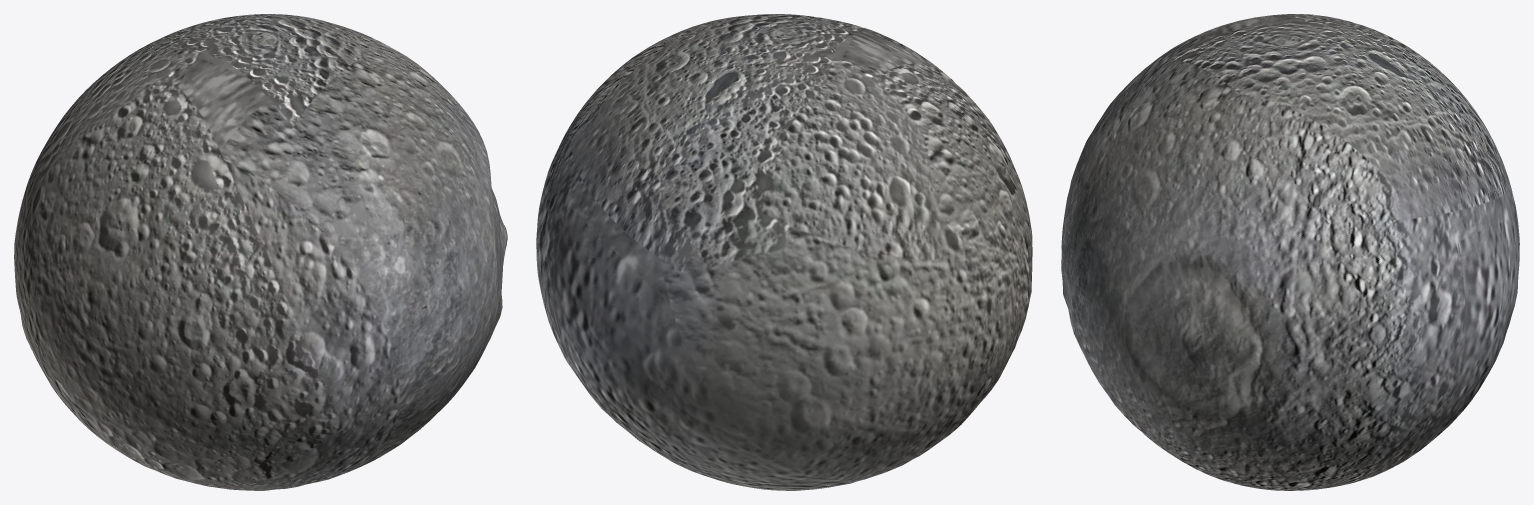
Rendered from mimas.glb.
The picture shows the model from 3 angles, left to right: view 1: azimuth 30°, elevation 25°; view 2: azimuth 150°, elevation 25°; view 3: azimuth 270°, elevation 25°; orthographic projection.
Parts seen in each view (by area): view 1: Mimas; view 2: Mimas; view 3: Mimas.
Boxes of the visible parts, x1=… form: Mimas: x1=14, y1=14, x2=507, y2=490; Mimas: x1=536, y1=14, x2=1032, y2=490; Mimas: x1=1061, y1=14, x2=1519, y2=490.
Size of the model in its own units: 416 by 393 by 381.
Materials: 1 (1 with a texture image).
